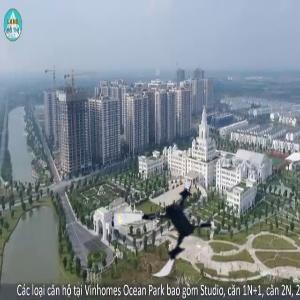drone: (113, 177, 216, 280)
